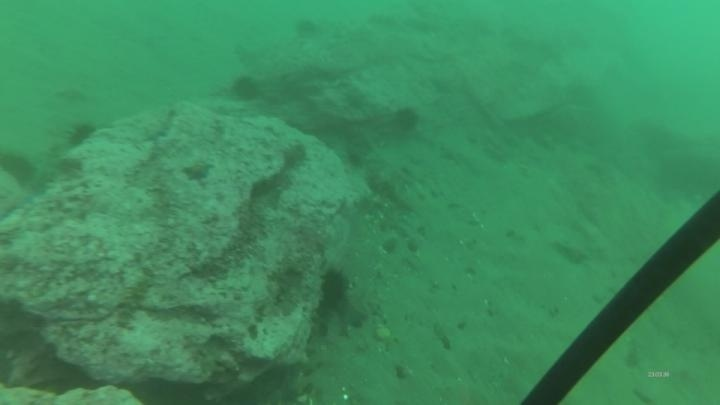echinus: (317, 266, 352, 310), (0, 148, 38, 187), (63, 119, 99, 151), (389, 104, 422, 136), (229, 73, 263, 104), (292, 16, 322, 41)
starfish: (0, 184, 39, 221), (180, 157, 216, 183)
